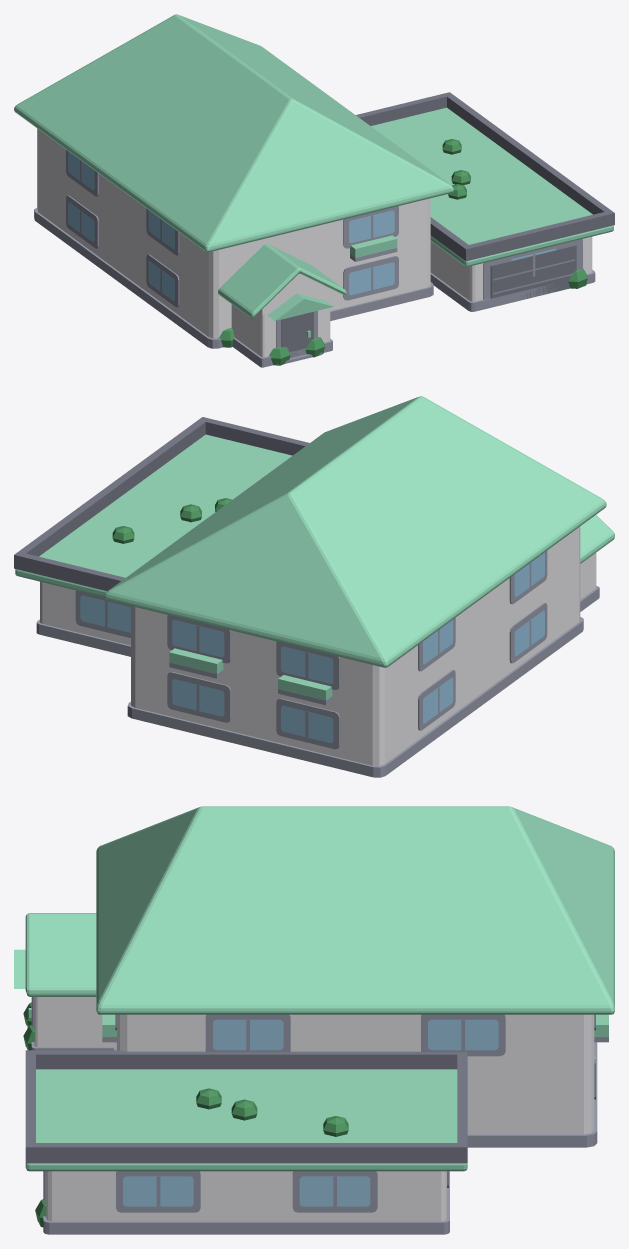
The model's file is house-2x2-2f-mansard-a.glb.
The picture shows the model from 3 angles, top to bottom: view 1: azimuth 30°, elevation 25°; view 2: azimuth 150°, elevation 25°; view 3: azimuth 270°, elevation 25°; orthographic projection. The views are drawn at different scales.
Visible parts, largest first — view 1: house-2x2-2f-mansard-a; view 2: house-2x2-2f-mansard-a; view 3: house-2x2-2f-mansard-a.
Part boxes in pixels (<box>): house-2x2-2f-mansard-a: <box>14,14,614,367</box>; house-2x2-2f-mansard-a: <box>14,396,614,777</box>; house-2x2-2f-mansard-a: <box>14,806,614,1234</box>.
Size of the model in its own units: 2 by 1 by 2.04.
Materials: 1 (1 with a texture image).
